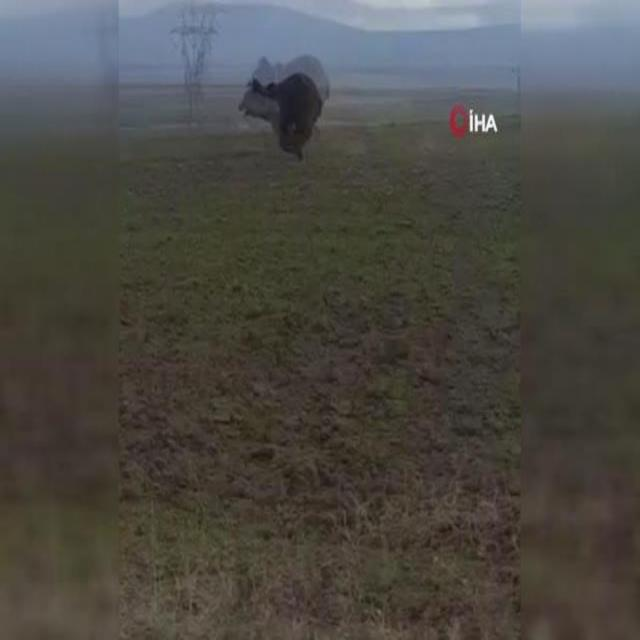Bear: (237, 56, 329, 161)
